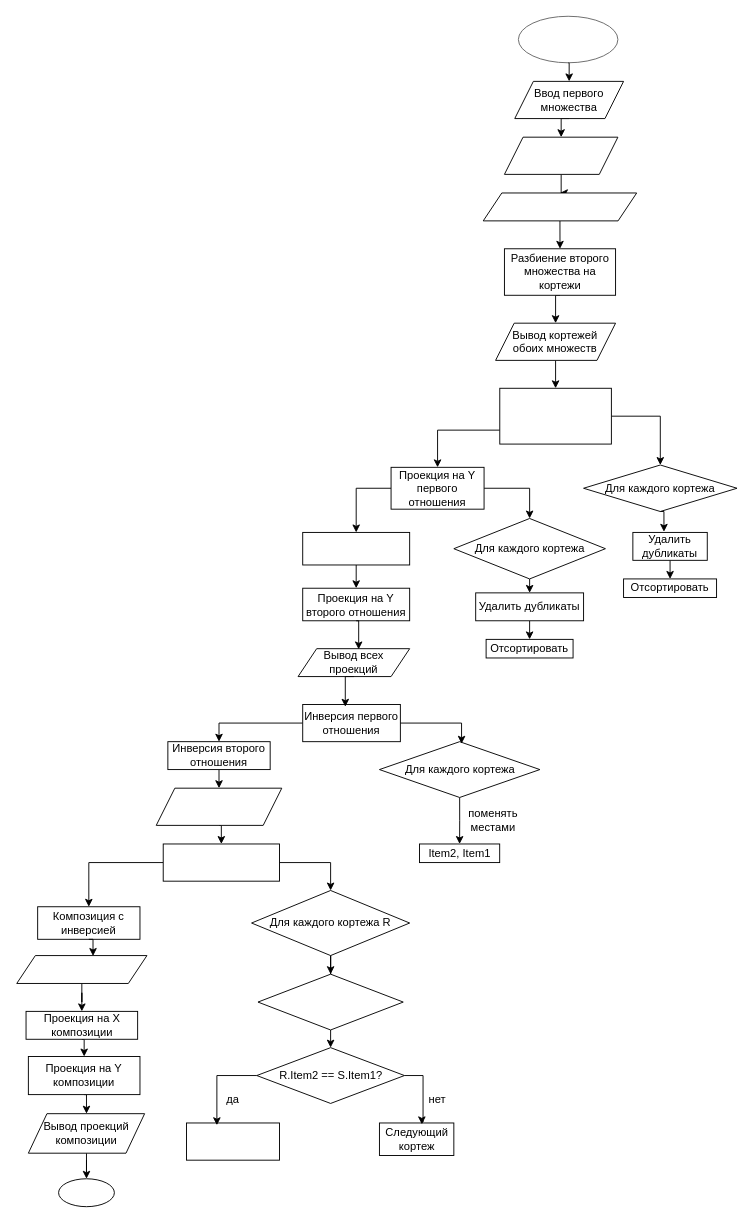
Some shapes in this 753 by 1223 pixel diagram are drawn without their labels. The shapes that lost their labels are listed below. From the top down, each one's centre as x and y in pixels, then its label:
At point (567, 39): "Начало".
At point (561, 155): "Ввод второго множества".
At point (559, 206): "Разбиение первого множества на кортежи".
At point (555, 415): "Проекция на X первого множества".
At point (356, 548): "Проекция на X второго отношения".
At point (218, 806): "Вывод инверсий отношений".
At point (220, 862): "Композиция первого и второго отношения".
At point (81, 969): "Вывод композиции".
At point (330, 1001): "Для каждого кортежа S".
At point (232, 1141): "Добавить R.Item1, S.Item2".
At point (86, 1192): "конец".
